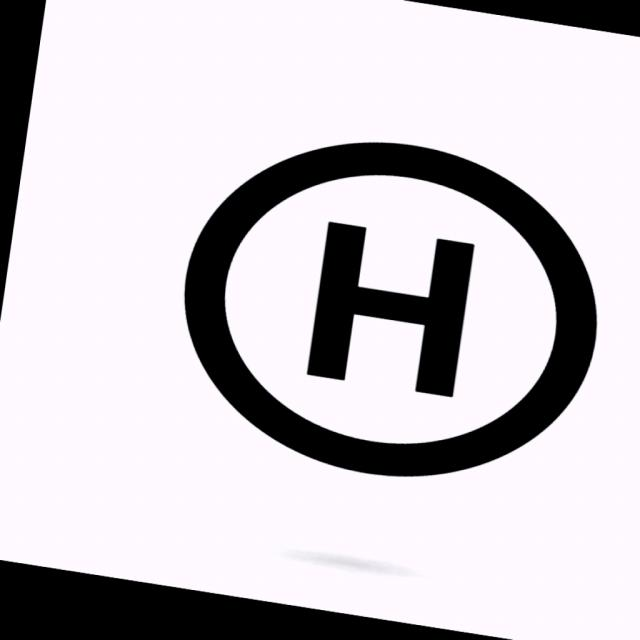helipad: (178, 134, 603, 482)
